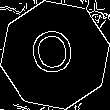O_S: (29, 26, 81, 84)
